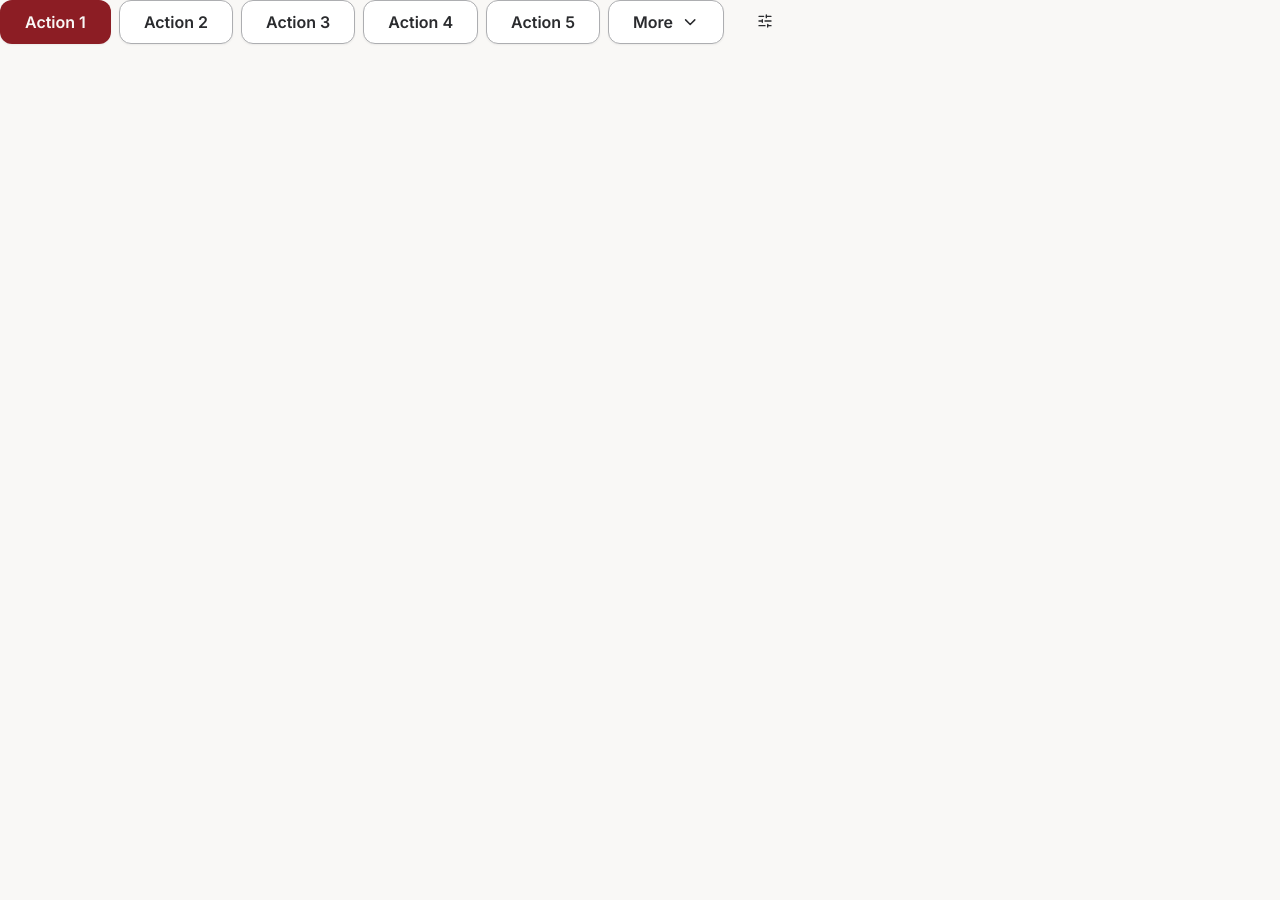
QuickActions › offers a Customize control that opens the dialog
Click the button named "customize quick actions" at (765, 22), box [732,0,798,44]
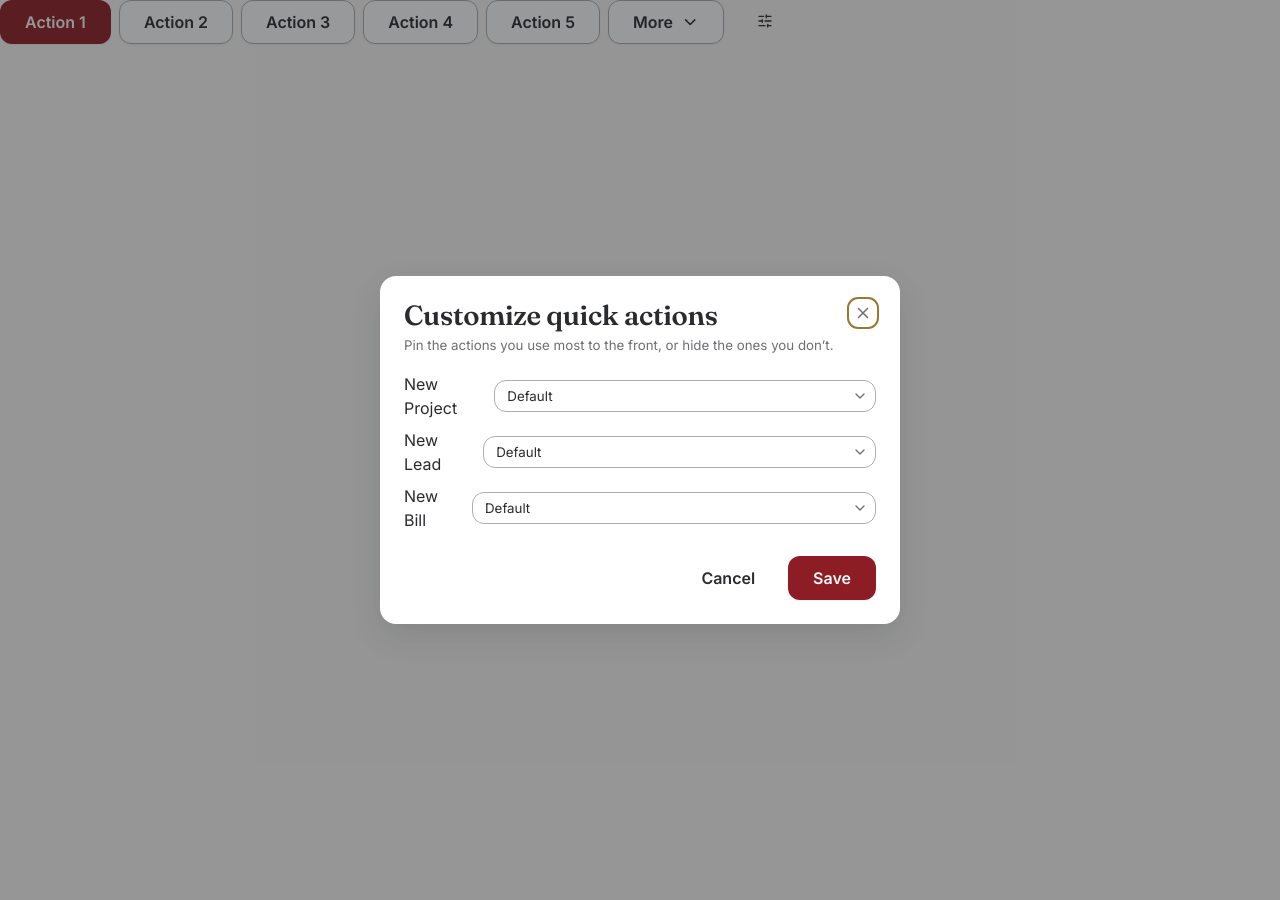
Expected: the heading "Customize quick actions" is shown, [404,298,718,332]
Expected: the text "New Bill" is shown, [404,486,438,530]
